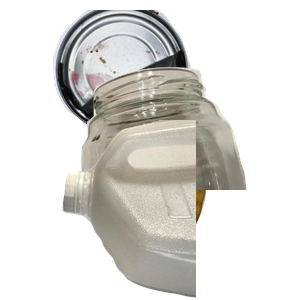glass: (74, 65, 300, 245)
metal: (50, 10, 262, 140)
plastic: (60, 120, 300, 300)
trash: (96, 145, 295, 300)
